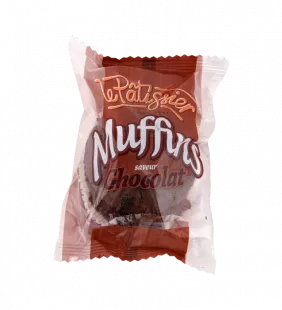LE PATISSIER: (44, 28, 237, 285)
